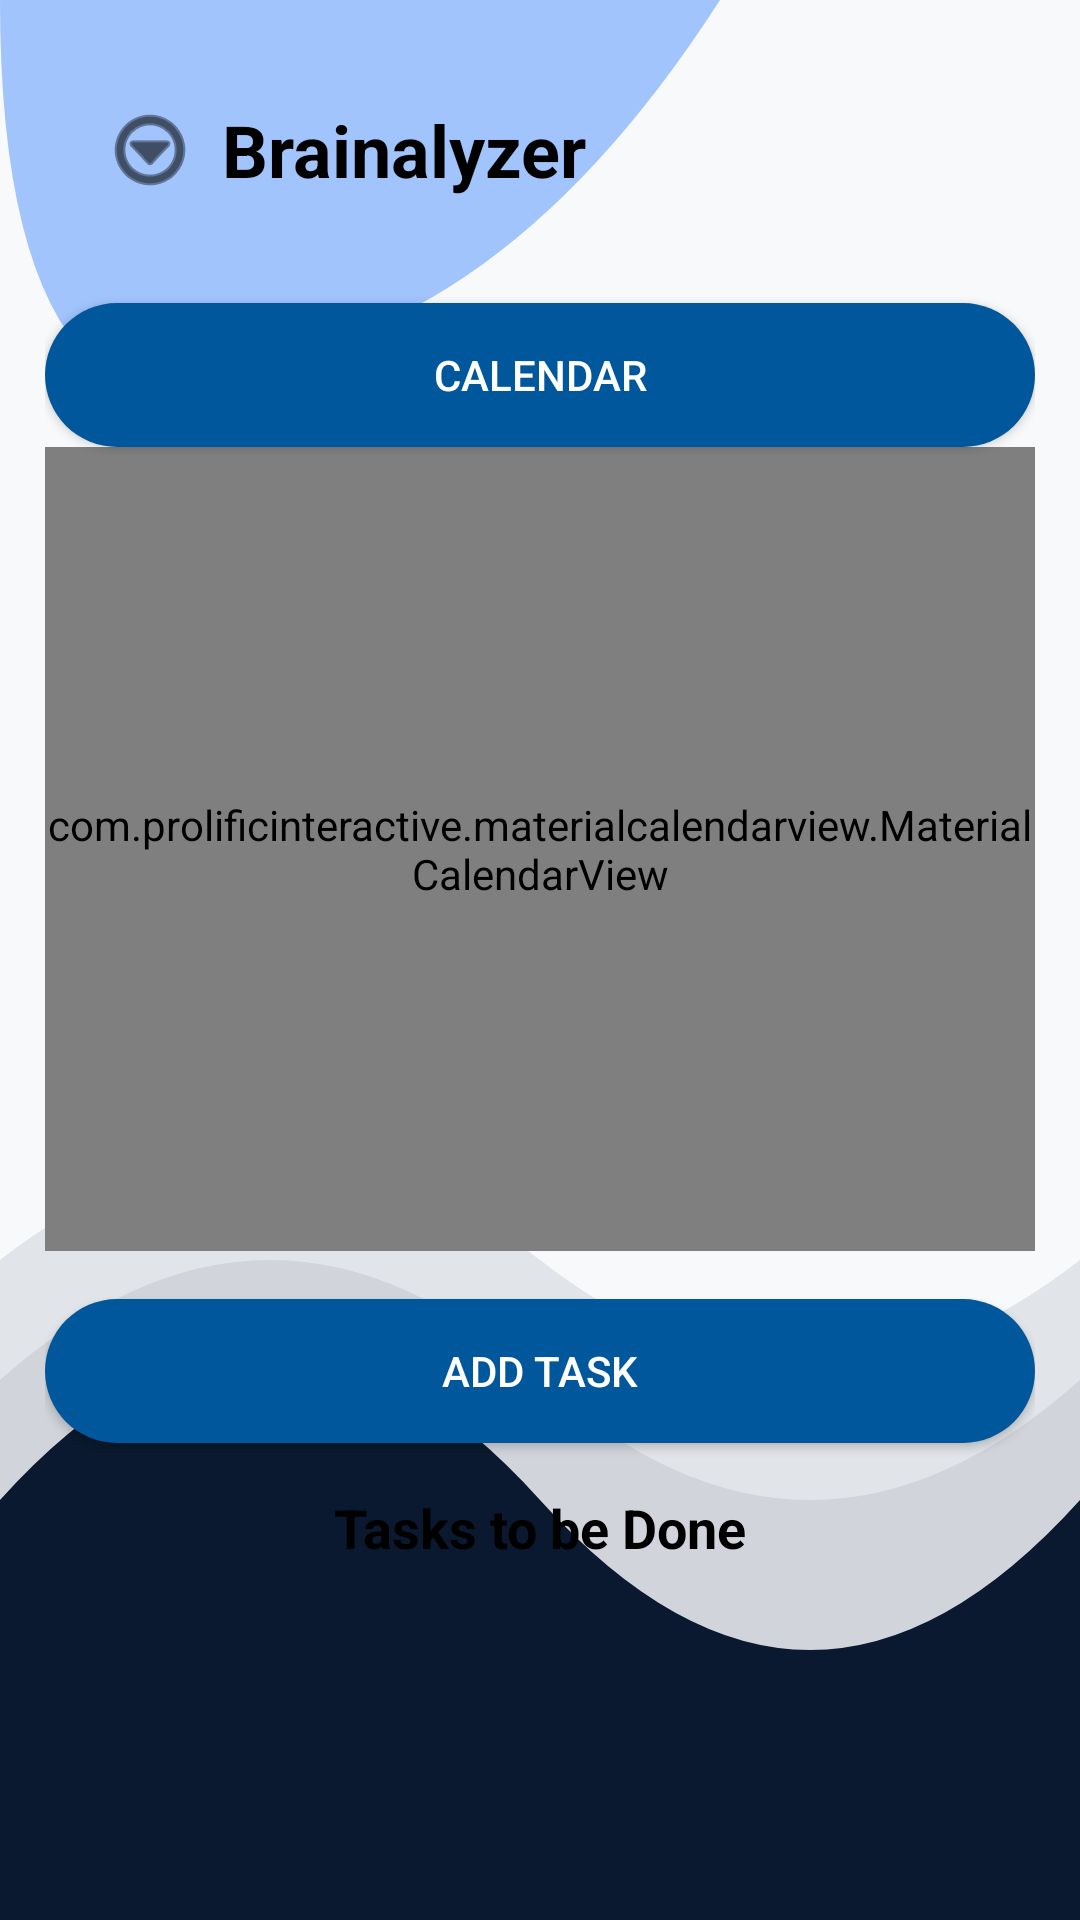

Named icons in this screenshot (1080*1920) and their bounding boxes, [x1=x1, y1=y1, x2=x2, y2=y2]:
Menu: [x1=114, y1=114, x2=186, y2=186]
